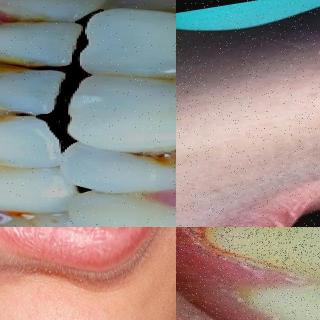Gum Swelling: (176, 227, 305, 293)
stains: (0, 59, 34, 90), (139, 149, 176, 175), (5, 10, 48, 30), (0, 203, 34, 227)
